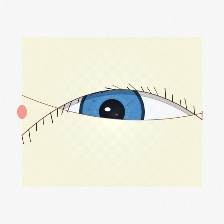pinguecula_lesion: (39, 101, 83, 137)
